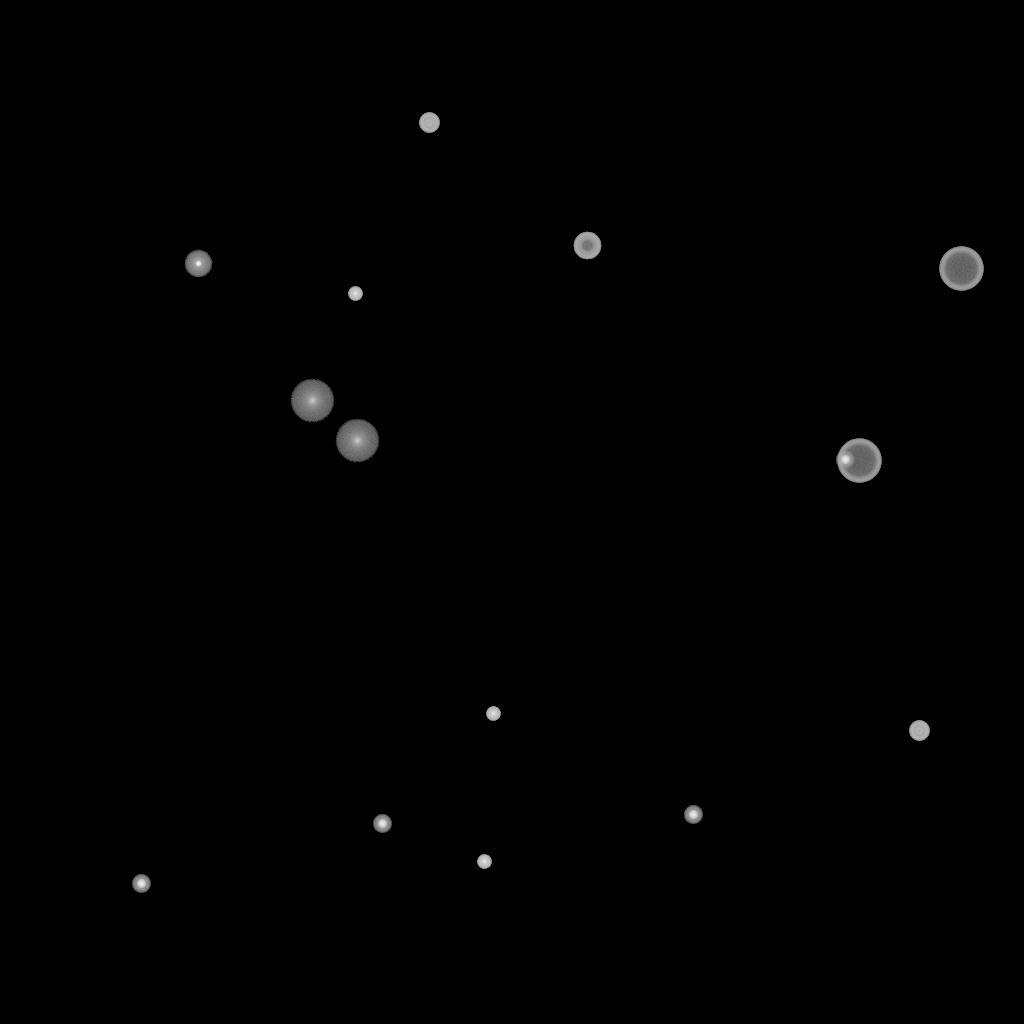depth:-10: (184, 250, 212, 278)
depth:-20: (373, 815, 391, 833), (836, 451, 854, 469), (684, 806, 702, 824), (132, 875, 150, 893)
depth:-30: (348, 287, 362, 301), (477, 855, 491, 869), (486, 707, 500, 721)
depth:-40: (419, 113, 439, 133), (909, 721, 929, 741)
depth:-50: (573, 232, 601, 260)
depth:-70: (939, 247, 983, 291), (837, 439, 881, 483)
depth:10: (290, 379, 334, 423), (335, 419, 379, 463)
